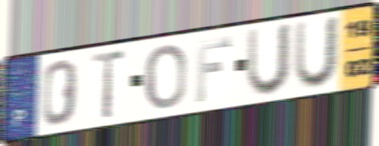0: (41, 56, 80, 129)
F: (194, 35, 234, 105)
O: (143, 42, 188, 112)
T: (89, 48, 128, 122)
U: (244, 20, 295, 99), (292, 13, 343, 92)
